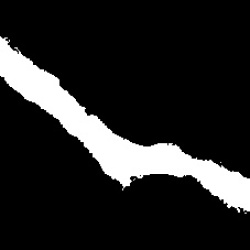crack: (1, 36, 244, 209)
